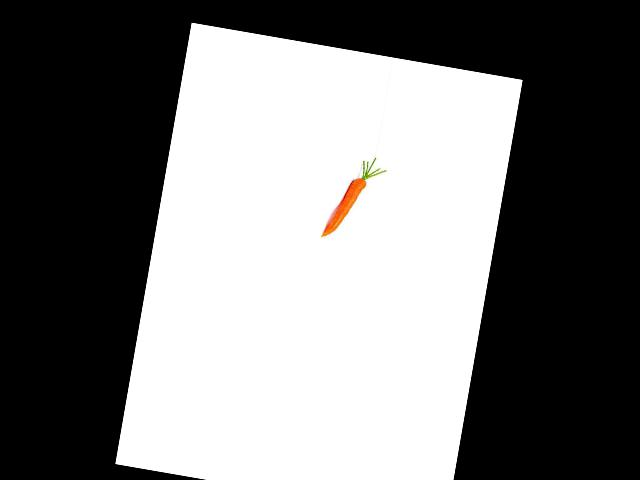carrot: (320, 165, 373, 245)
